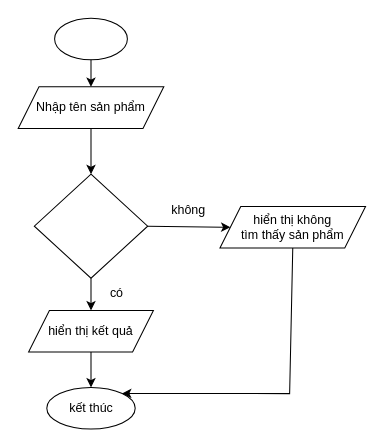
This 384x447 diagram has some shape labels left out. The shapes that lost their labels are listed below. From the top down, each one's centre as x and y in pixels, then its label:
the point at 90,38: bắt đầu
the point at 90,225: tìm sản phẩm trong CSDL
